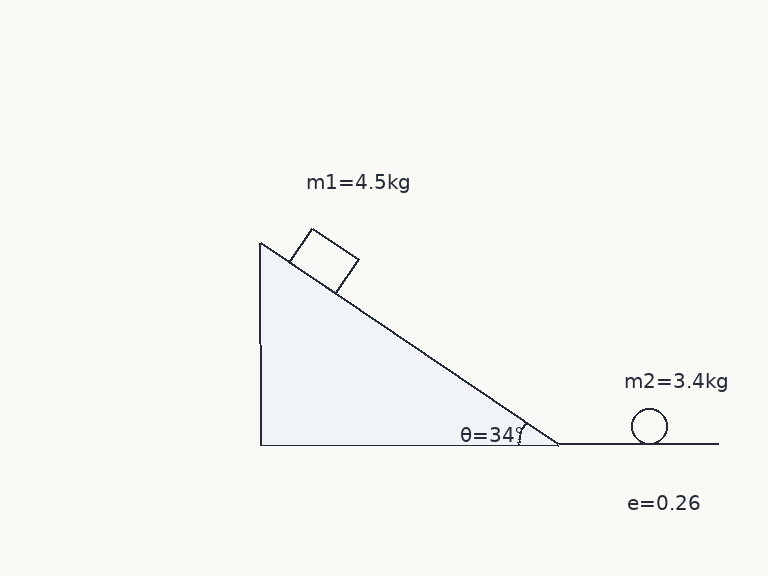ball: (629, 406, 669, 446)
block: (287, 226, 360, 295)
ramp: (259, 241, 561, 446)
